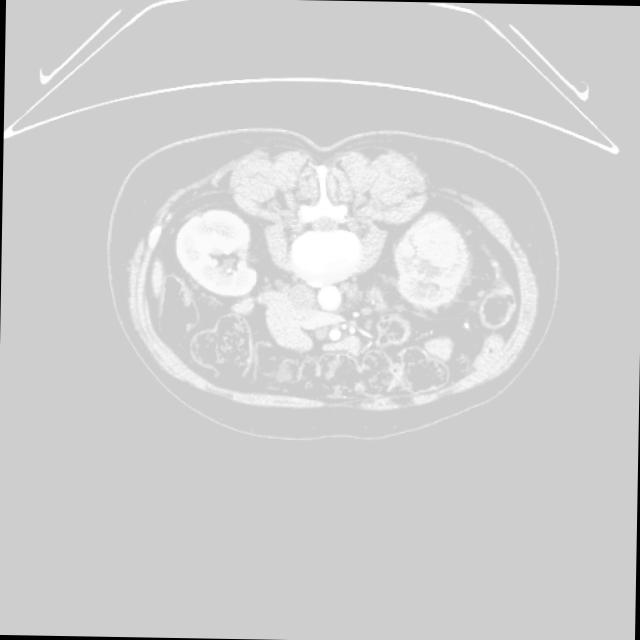TUMOR: (159, 197, 530, 326)
